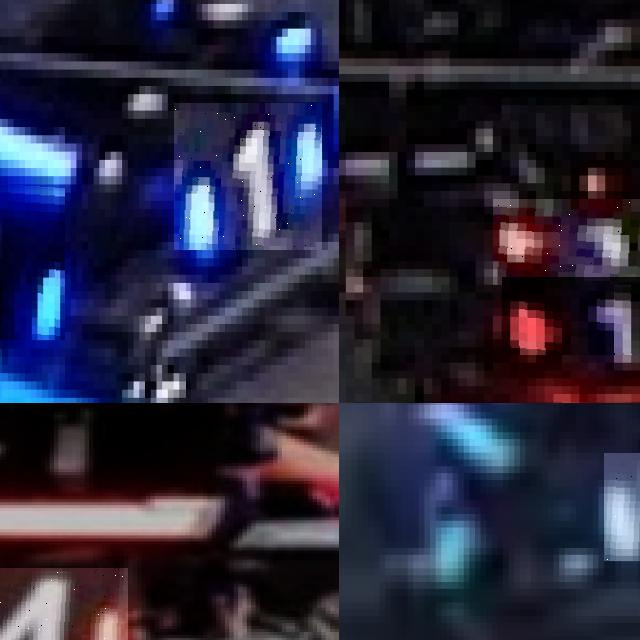B1: (174, 103, 322, 250), (0, 176, 65, 340)
B5: (604, 452, 640, 561)
R1: (493, 199, 640, 285), (501, 277, 640, 355)
R4: (0, 568, 128, 640)
